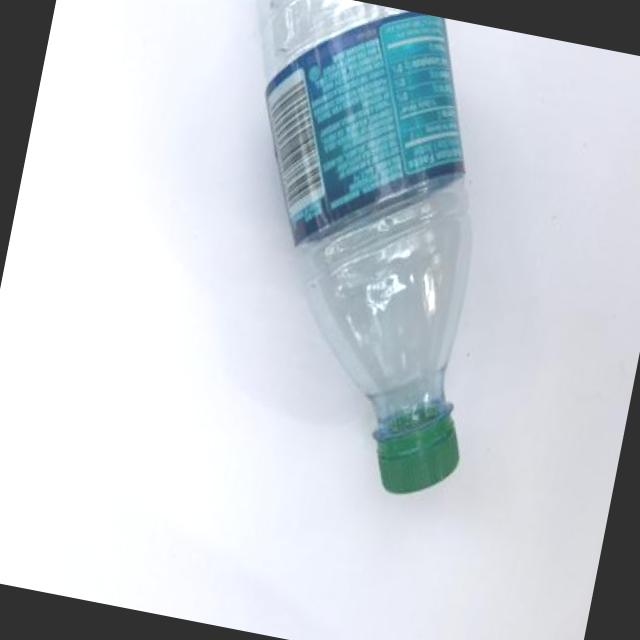Recycle: (154, 0, 542, 503)
